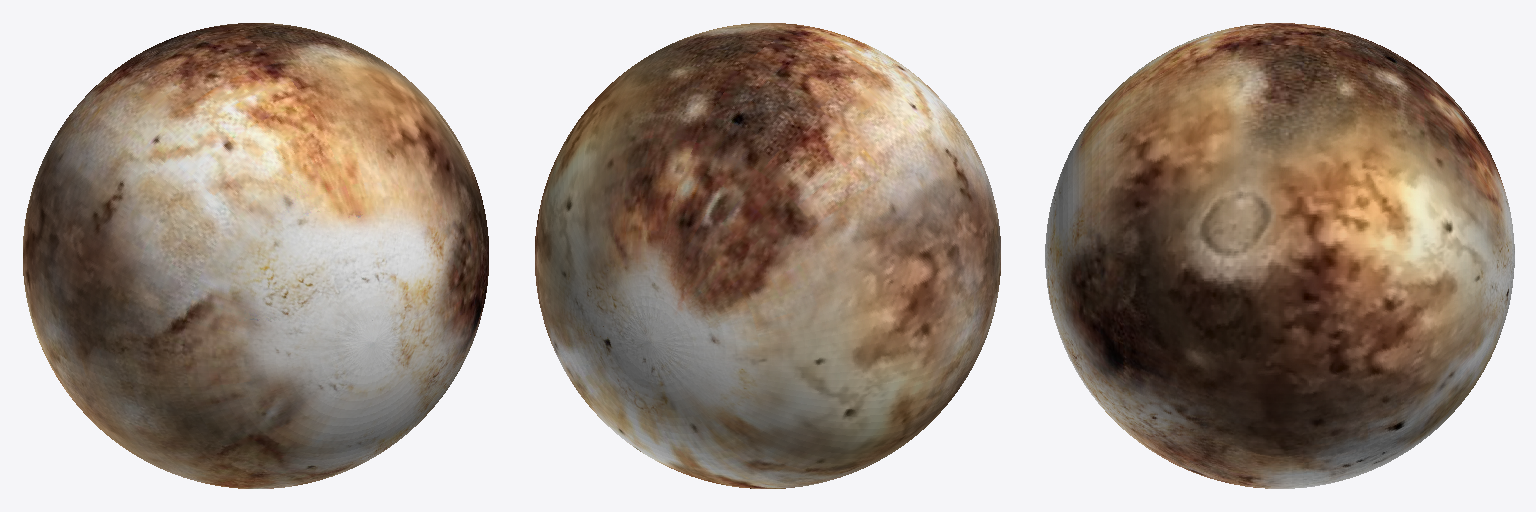
3 views of the same model, side by side, from view 1: azimuth 30°, elevation 25°; view 2: azimuth 150°, elevation 25°; view 3: azimuth 270°, elevation 25° (orthographic).
Visible parts, largest first — view 1: Pluto; view 2: Pluto; view 3: Pluto.
Boxes of the visible parts, box(x1,y1,x2,y2) form: Pluto: box(23, 23, 488, 488); Pluto: box(535, 23, 1000, 488); Pluto: box(1045, 23, 1514, 488).
Bounding box in the file's own units: 969 × 969 × 979.
Materials: 1 (1 with a texture image).